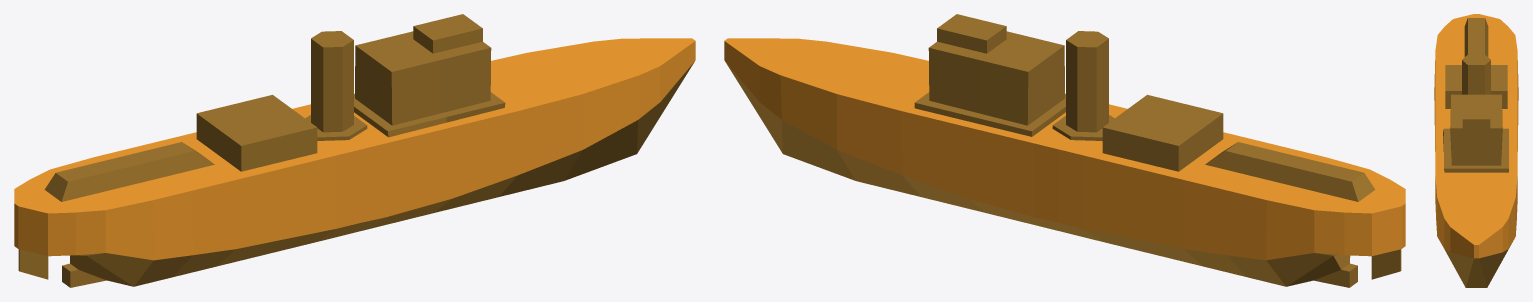
File: Ship_HMCS_Sackville_Hedgehog.obj
3 views of the same model, side by side, from view 1: azimuth 30°, elevation 25°; view 2: azimuth 150°, elevation 25°; view 3: azimuth 270°, elevation 25° (orthographic). The views are drawn at different scales.
Visible parts, largest first — view 1: HMCS-Sackville; view 2: HMCS-Sackville; view 3: HMCS-Sackville.
Part boxes in pixels (x1,y1,x2,y2): HMCS-Sackville: [14, 14, 695, 287]; HMCS-Sackville: [724, 14, 1405, 287]; HMCS-Sackville: [1434, 14, 1518, 287].
Size of the model in its own units: 4.73 by 1.26 by 0.7299.
